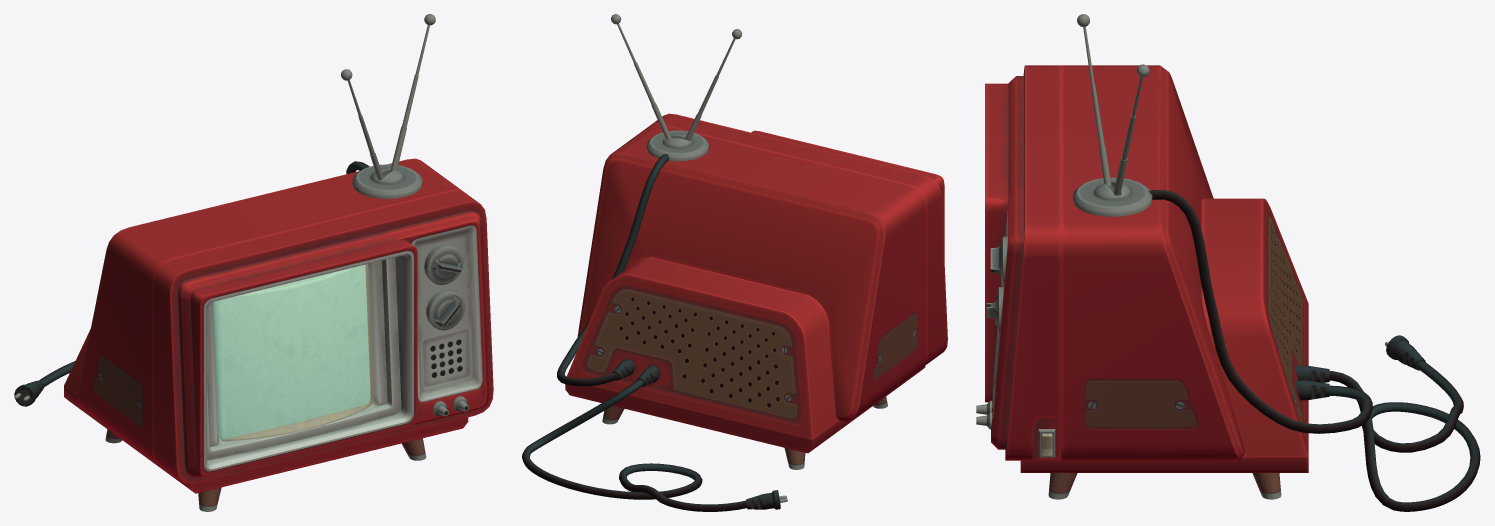
The picture shows the model from 3 angles, left to right: view 1: azimuth 30°, elevation 25°; view 2: azimuth 150°, elevation 25°; view 3: azimuth 270°, elevation 25°; orthographic projection. The views are drawn at different scales.
Visible parts, largest first — view 1: front_body_low001_main_0, middel_body_low001_main_0, screen_low001_glass_0, screen_emision_low002, rear_body_low001_main_0, antena_base_low001_main_0, top_regulator_low002, top_regulator_low001_main_0, antena_middel_low002_main_0, antena_middel_low003_main_0; view 2: middel_body_low001_main_0, rear_body_low001_main_0, front_body_low001_main_0, wire_right_low001_main_0, wire_left_low001_main_0, antena_base_low001_main_0, antena_middel_low002_main_0, antena_middel_low003_main_0; view 3: middel_body_low001_main_0, front_body_low001_main_0, rear_body_low001_main_0, wire_right_low001_main_0, wire_left_low001_main_0, antena_base_low001_main_0, antena_middel_low003_main_0, antena_middel_low002_main_0, legs_low004, legs_low001_main_0, wire_holder_low002, top_regulator_low001_main_0.
Boxes of the visible parts, x1=… form: front_body_low001_main_0: x1=153, y1=190, x2=493, y2=483; middel_body_low001_main_0: x1=77, y1=158, x2=463, y2=463; screen_low001_glass_0: x1=213, y1=264, x2=373, y2=441; screen_emision_low002: x1=213, y1=265, x2=370, y2=439; rear_body_low001_main_0: x1=64, y1=328, x2=468, y2=493; antena_base_low001_main_0: x1=352, y1=164, x2=422, y2=198; top_regulator_low002: x1=426, y1=288, x2=465, y2=330; top_regulator_low001_main_0: x1=424, y1=243, x2=463, y2=285; antena_middel_low002_main_0: x1=390, y1=14, x2=435, y2=172; antena_middel_low003_main_0: x1=341, y1=69, x2=383, y2=179; middel_body_low001_main_0: x1=577, y1=124, x2=926, y2=420; rear_body_low001_main_0: x1=565, y1=257, x2=925, y2=453; front_body_low001_main_0: x1=650, y1=113, x2=947, y2=366; wire_right_low001_main_0: x1=522, y1=379, x2=747, y2=511; wire_left_low001_main_0: x1=557, y1=153, x2=669, y2=386; antena_base_low001_main_0: x1=646, y1=130, x2=708, y2=161; antena_middel_low002_main_0: x1=611, y1=14, x2=671, y2=139; antena_middel_low003_main_0: x1=685, y1=29, x2=742, y2=141; middel_body_low001_main_0: x1=1061, y1=65, x2=1244, y2=460; front_body_low001_main_0: x1=985, y1=65, x2=1061, y2=460; rear_body_low001_main_0: x1=1020, y1=198, x2=1308, y2=472; wire_right_low001_main_0: x1=1329, y1=360, x2=1480, y2=511; wire_left_low001_main_0: x1=1149, y1=189, x2=1372, y2=433; antena_base_low001_main_0: x1=1073, y1=177, x2=1152, y2=216; antena_middel_low003_main_0: x1=1077, y1=14, x2=1111, y2=186; antena_middel_low002_main_0: x1=1113, y1=64, x2=1149, y2=195; legs_low004: x1=1252, y1=473, x2=1281, y2=499; legs_low001_main_0: x1=1048, y1=473, x2=1077, y2=499; wire_holder_low002: x1=1295, y1=380, x2=1329, y2=400; top_regulator_low001_main_0: x1=990, y1=236, x2=1007, y2=284.
Bounding box in the file's own units: 81.52 × 98.78 × 98.48.
Materials: 2 (2 with a texture image).
